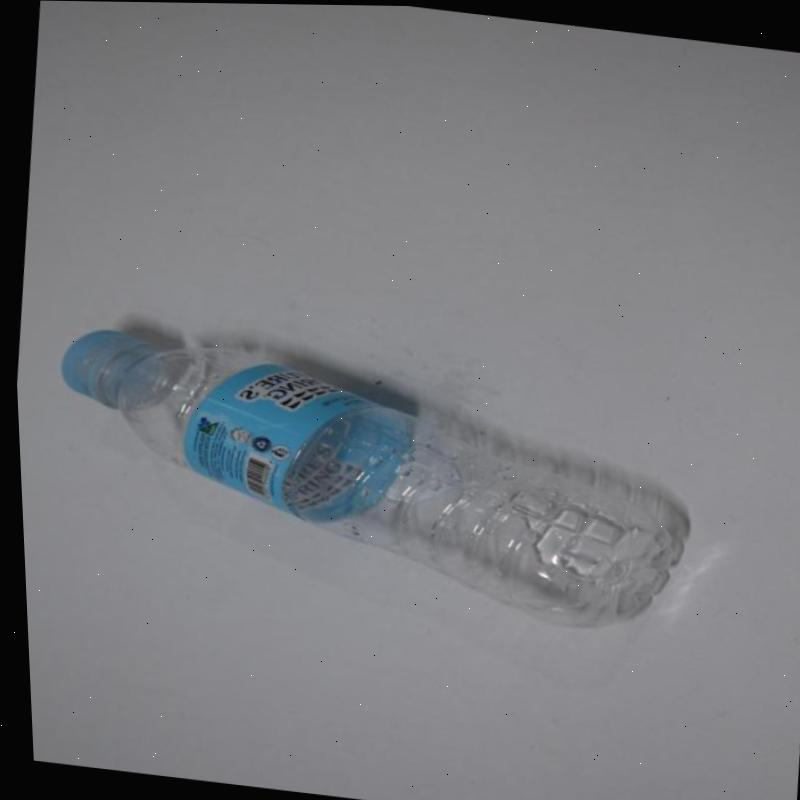botella: (30, 319, 703, 637)
